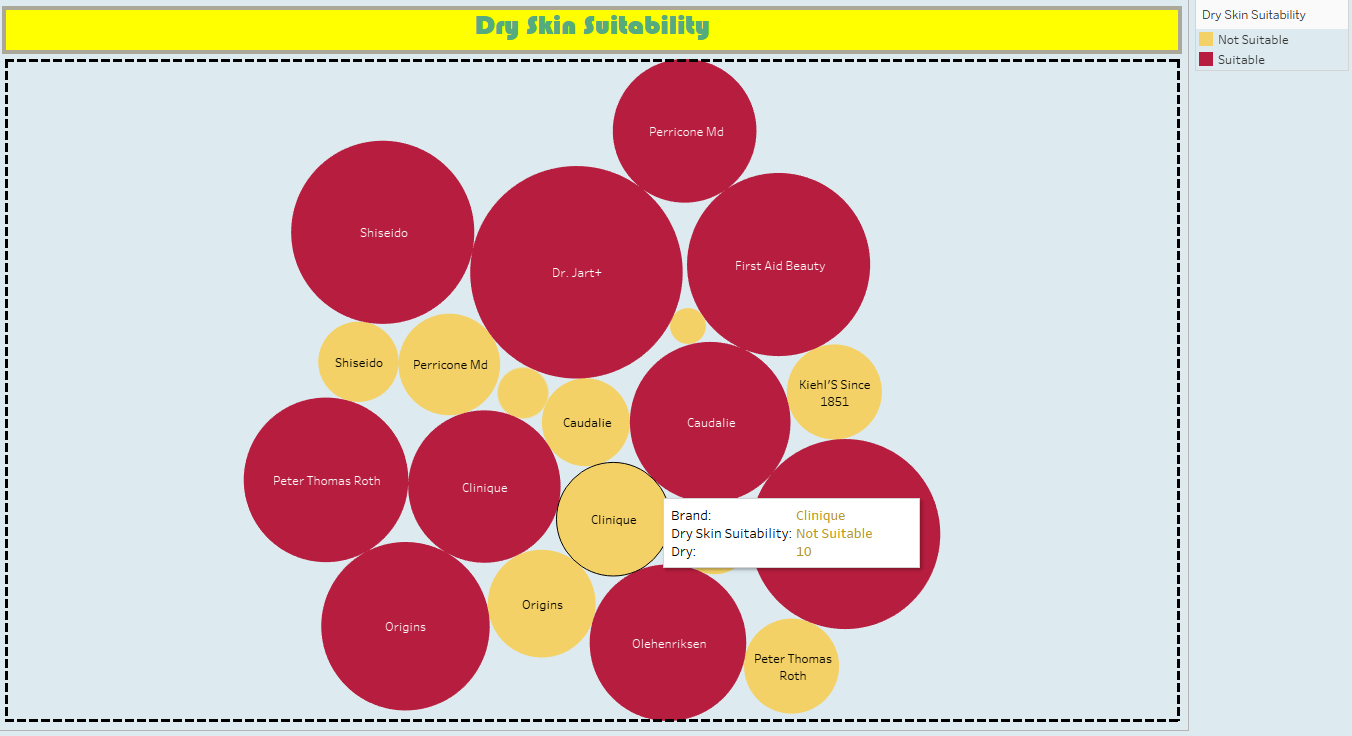

The dashboard page shown, as its layout file describes it:
{"tool":"tableau","page":{"name":"Dashboard 2","canvas":[1200,800],"ordinal":1},"visuals":[{"type":"text","box":[2,3,960,63]},{"type":"dashboard-object","box":[778,9,164,52]},{"type":"legend","title":"Sensitive","param":"[federated.1jyz4ck1cu2dcf1atgttf1akgbpa].[none:Sensitive Skin Suitability:nk]","box":[983,53,140,58]},{"type":"worksheet","title":"Oily","mark":"Bar","rows":["No. of Records"],"cols":["Brand"],"box":[556,75,409,226]},{"type":"worksheet","title":"Sensitive","mark":"Bar","rows":["No. of Records"],"cols":["Sensitive Skin Suitability","Brand"],"box":[11,81,531,220]},{"type":"legend","title":"Oily","param":"[federated.1jyz4ck1cu2dcf1atgttf1akgbpa].[none:Oily Skin Suitability:nk]","box":[977,165,140,58]},{"type":"worksheet","title":"Dry","mark":"Circle","box":[569,332,387,449]},{"type":"worksheet","title":"Normal","mark":"Automatic","rows":["No. of Records"],"cols":["Normal Skin Suitability"],"box":[19,333,520,446]},{"type":"legend","title":"Dry","param":"[federated.1jyz4ck1cu2dcf1atgttf1akgbpa].[none:Dry Skin Suitability:nk]","box":[990,383,140,58]}]}

Visuals, with their boxes on the page's 1200x800 design canvas (x1, y1, x2, y2). These are canvas units, not pixel positions in the 1352x736 screenshot, which may show the page scaled, cropped or inside an application window:
text: [left=2, top=3, right=962, bottom=66]
dashboard-object: [left=778, top=9, right=942, bottom=61]
"Sensitive" legend: [left=983, top=53, right=1123, bottom=111]
"Oily" worksheet (Bar marks): [left=556, top=75, right=965, bottom=301]
"Sensitive" worksheet (Bar marks): [left=11, top=81, right=542, bottom=301]
"Oily" legend: [left=977, top=165, right=1117, bottom=223]
"Dry" worksheet (Circle marks): [left=569, top=332, right=956, bottom=781]
"Normal" worksheet: [left=19, top=333, right=539, bottom=779]
"Dry" legend: [left=990, top=383, right=1130, bottom=441]
